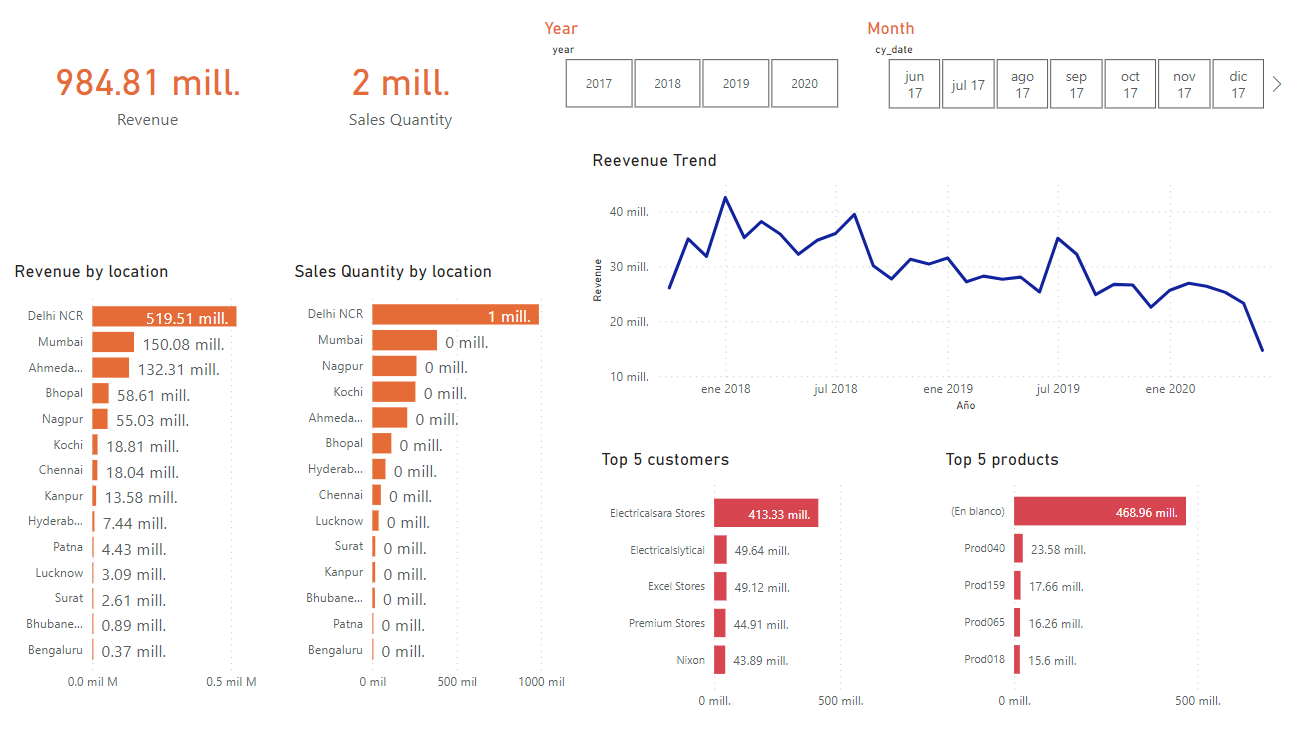

What the dashboard file says about the page in this screenshot:
{"tool":"powerbi","page":{"name":"Página 1","canvas":[1280,720],"ordinal":0},"visuals":[{"type":"card","fields":{"Values":["BaseMeasures.Revenue"]},"box":[22.4,14.3,246.3,160],"z":0},{"type":"card","fields":{"Values":["BaseMeasures.Sales Quantity"]},"box":[268.7,14.3,246.3,160.3],"z":2},{"type":"barChart","title":"Revenue by location","fields":{"Y":["BaseMeasures.Revenue"],"Category":["sales markets.markets_name"]},"box":[10.7,262,272.8,426.7],"z":3},{"type":"barChart","title":"Sales Quantity by location","fields":{"Y":["BaseMeasures.Sales Quantity"],"Category":["sales markets.markets_name"]},"box":[283.5,262,272.8,426.7],"z":4},{"type":"slicer","title":"Year","fields":{"Values":["sales date.year"]},"box":[526,25.3,314.6,93.5],"z":5},{"type":"slicer","title":"Month","fields":{"Values":["sales date.cy_date"]},"box":[840.7,25.3,415,95.5],"z":6},{"type":"barChart","title":"Top 5 customers","fields":{"Category":["sales customers.custmer_name"],"Y":["BaseMeasures.Revenue"]},"box":[581.6,444.2,290.3,263],"z":7},{"type":"barChart","title":"Top 5 products","fields":{"Y":["BaseMeasures.Revenue"],"Category":["sales products.product_code"]},"box":[916.7,444.2,313.7,263],"z":8},{"type":"lineChart","title":"Reevenue Trend","fields":{"Category":["sales date.cy_date.Variación.Jerarquía de fechas.Año","sales date.cy_date.Variación.Jerarquía de fechas.Trimestre","sales date.cy_date.Variación.Jerarquía de fechas.Mes","sales date.cy_date.Variación.Jerarquía de fechas.Día"],"Y":["BaseMeasures.Revenue"]},"box":[572.8,153.9,686.8,259.1],"z":9}]}

Visuals, with their boxes in screenshot pixels (x1, y1, x2, y2), scaled from the page's 1280x720 canvas onto the 1309x731 screenshot:
card - BaseMeasures.Revenue: [23,15,275,177]
card - BaseMeasures.Sales Quantity: [275,15,527,177]
"Revenue by location" barChart: [11,266,290,699]
"Sales Quantity by location" barChart: [290,266,569,699]
"Year" slicer: [538,26,860,121]
"Month" slicer: [860,26,1284,123]
"Top 5 customers" barChart: [595,451,892,718]
"Top 5 products" barChart: [937,451,1258,718]
"Reevenue Trend" lineChart: [586,156,1288,419]
